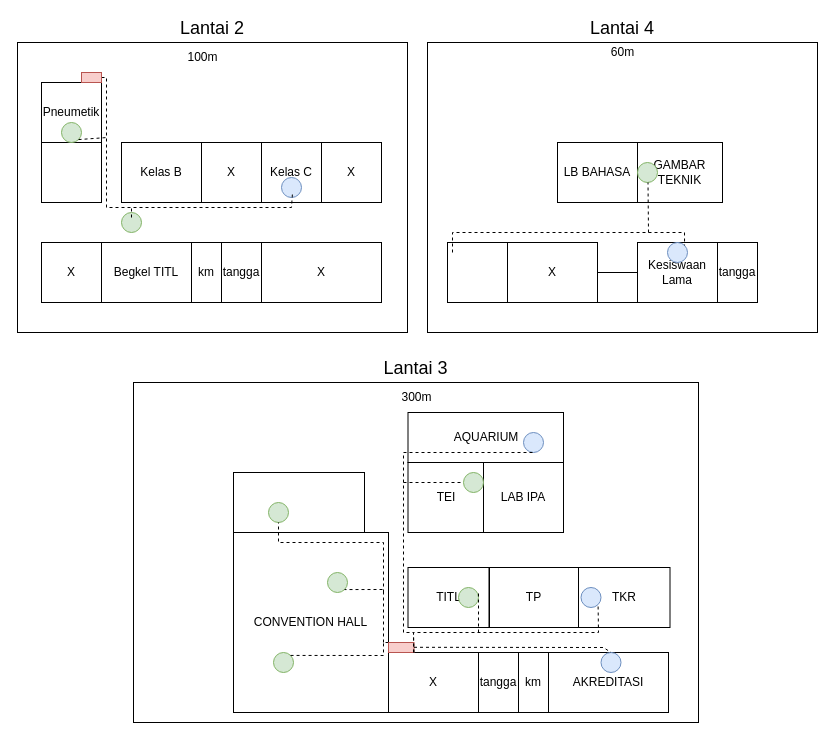
The diagram is 835 pixels wide and 740 high, and some of its shapes have lost their labels. The centre of each missing label's shape, as x and y in pixels:
"Kelas A" belongs at point 71,172.
"LIFT" belongs at point 617,287.
"SERVER" belongs at point 477,272.
